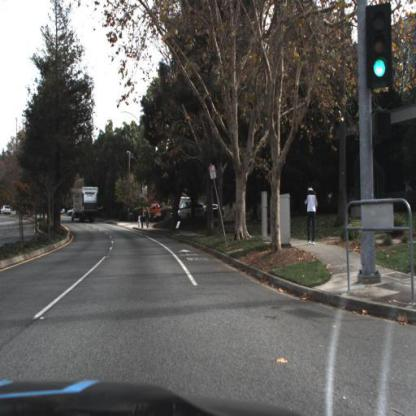car: (179, 201, 206, 223)
pedestrian: (304, 184, 321, 247), (305, 181, 319, 247)
truck: (72, 185, 100, 227)
